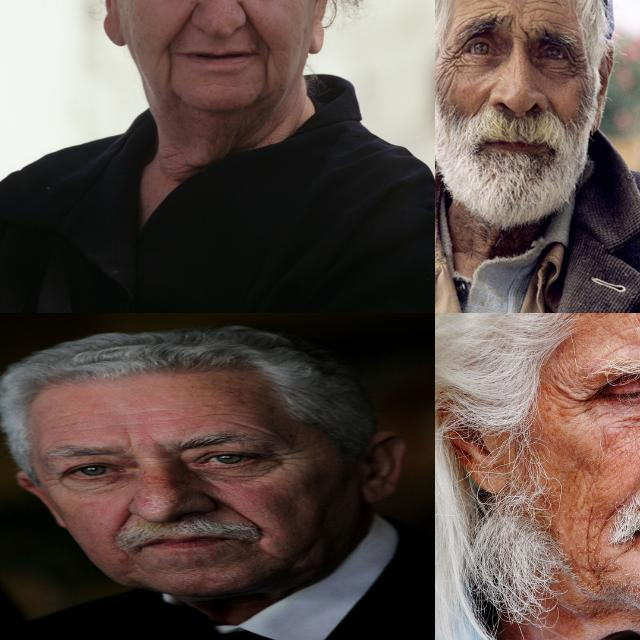crows_feet: (552, 386, 600, 420), (436, 46, 464, 72), (263, 447, 305, 464), (568, 50, 586, 78)
forehead: (225, 418, 273, 437), (523, 0, 567, 19), (196, 408, 252, 422), (471, 0, 504, 15), (609, 313, 640, 325)
frown_line: (117, 428, 138, 449)
gummy_smile: (599, 490, 631, 534), (167, 2, 195, 46), (208, 491, 250, 520), (241, 10, 273, 48), (106, 504, 141, 536), (546, 95, 560, 123), (471, 96, 485, 118)
masseter: (574, 501, 598, 571), (435, 75, 456, 105)
sad_smile: (258, 56, 280, 88), (158, 54, 182, 82), (258, 547, 291, 562)
